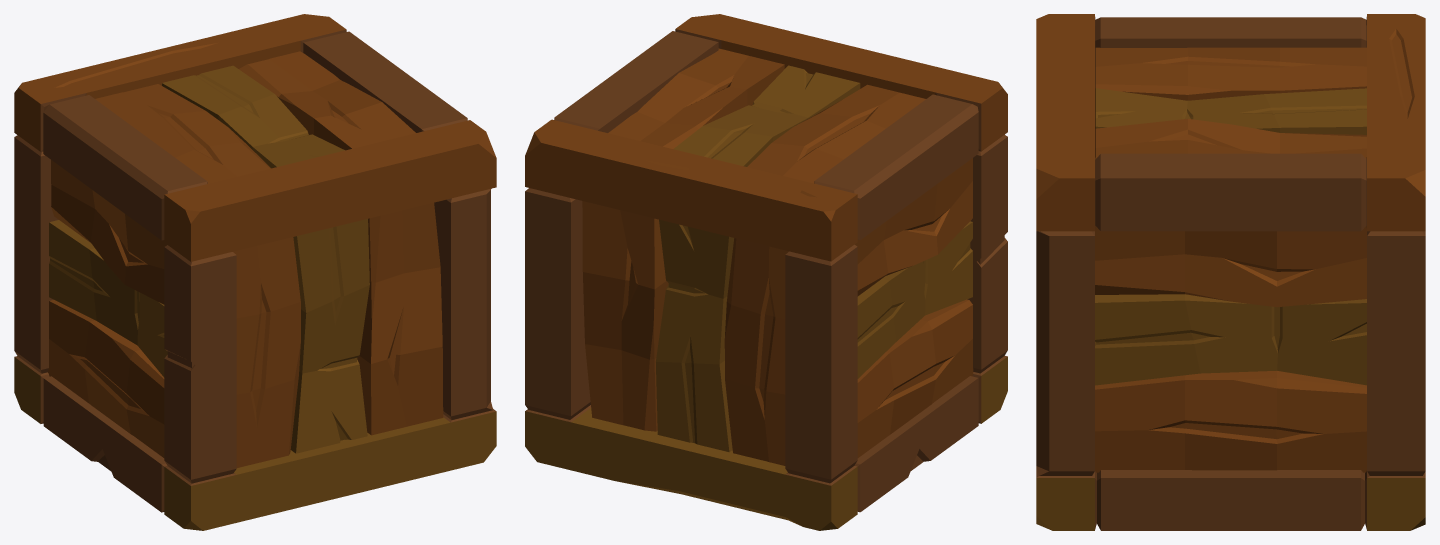
Rendered from Crate.fbx.
3 views of the same model, side by side, from view 1: azimuth 30°, elevation 25°; view 2: azimuth 150°, elevation 25°; view 3: azimuth 270°, elevation 25° (orthographic). The views are drawn at different scales.
Visible parts, largest first — view 1: Crate.001, Crate; view 2: Crate.001, Crate; view 3: Crate.001, Crate.
Boxes of the visible parts, box(x1,y1,x2,y2) form: Crate.001: box(14, 14, 496, 530); Crate: box(48, 51, 443, 467); Crate.001: box(525, 14, 1007, 530); Crate: box(582, 48, 973, 465); Crate.001: box(1036, 14, 1425, 530); Crate: box(1095, 47, 1366, 472).
Size of the model in its own units: 80 by 80 by 80.
